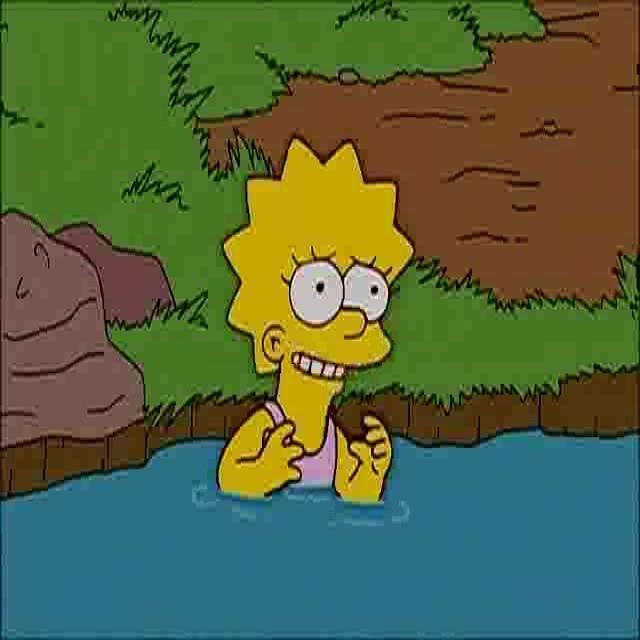Lisa Simpson: (220, 132, 416, 415)
